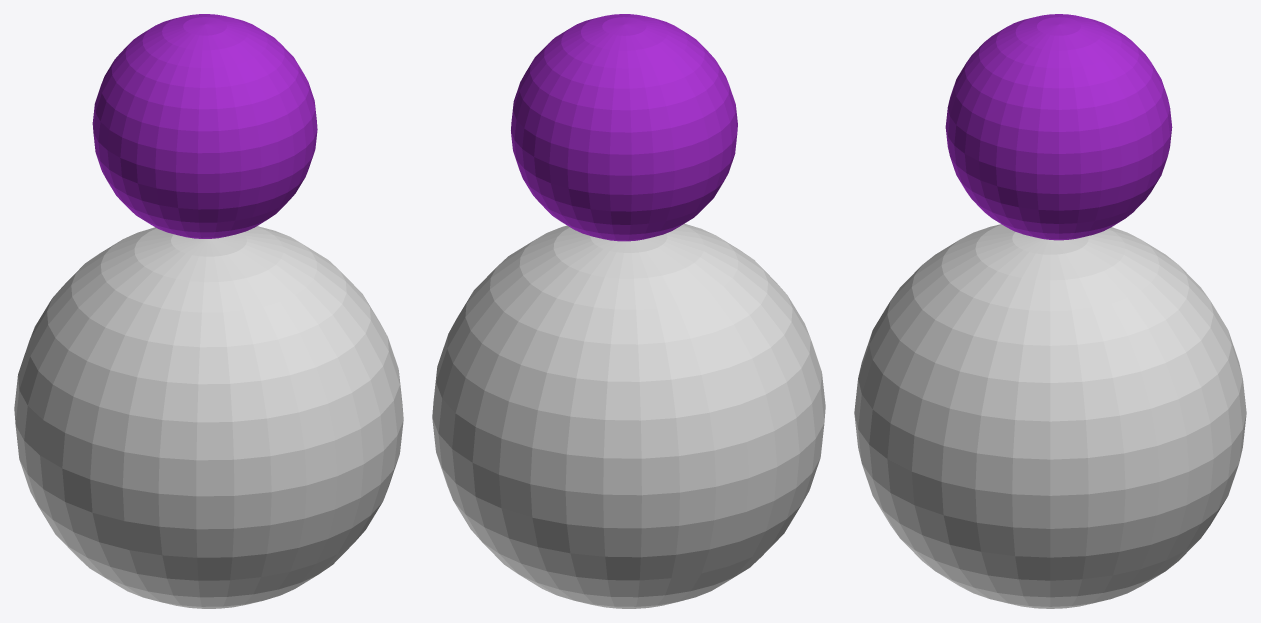
The picture shows the model from 3 angles, left to right: view 1: azimuth 30°, elevation 25°; view 2: azimuth 150°, elevation 25°; view 3: azimuth 270°, elevation 25°; orthographic projection.
Parts seen in each view (by area): view 1: 球, 球_001; view 2: 球, 球_001; view 3: 球, 球_001.
Part boxes in pixels (x1,y1,x2,y2): 球: (14, 226, 403, 608); 球_001: (92, 14, 317, 238); 球: (432, 223, 825, 608); 球_001: (511, 14, 737, 241); 球: (854, 224, 1246, 608); 球_001: (945, 14, 1172, 240).
Bounding box in the file's own units: 2 × 2 × 3.19.
